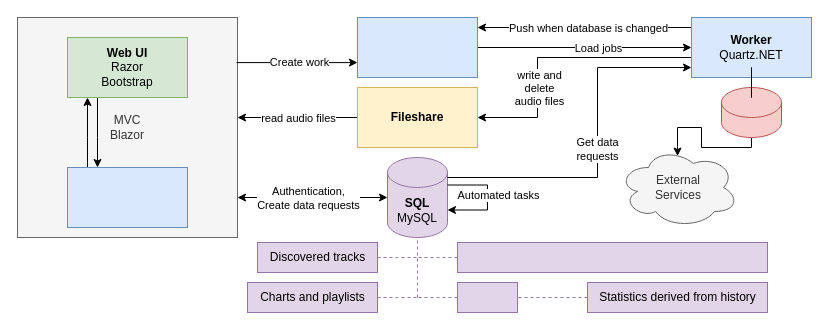
The diagram is 829 pixels wide and 330 high, and some of its shapes have lost their labels. Here are the shapes that lost their labels. From the top down, the centre of each, then its label:
At point 417,47: "Event Hub SignalR".
At point 751,112: "Proxy".
At point 127,197: "Web Backend ASP NET".
At point 612,257: "User profiles, authentication and authorization (RBAC)".
At point 487,297: "History".
